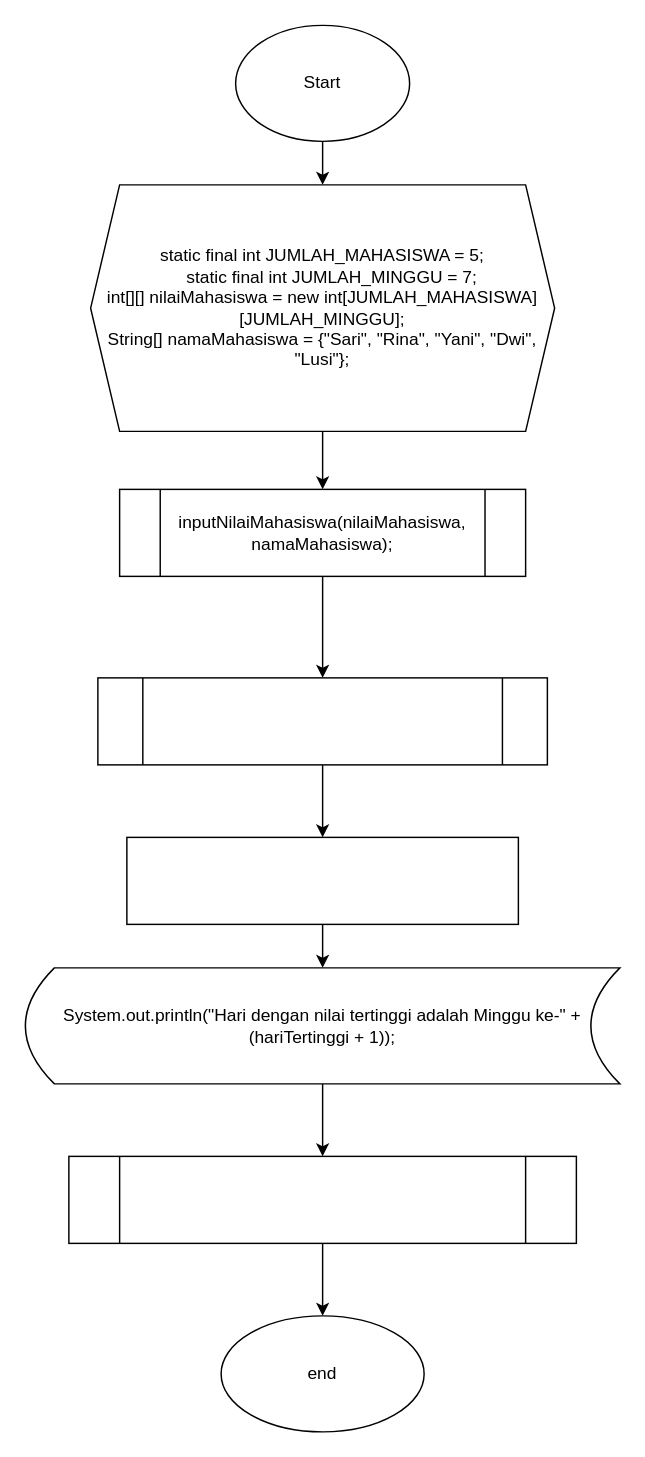
Some shapes in this 645 by 1457 pixel diagram are drawn without their labels. The centre of each missing label's shape, as x and y in pixels:
int hariTertinggi = cariHariTertinggi(nilaiMahasiswa);: (x=321, y=880)
tampilkanMahasiswaNilaiTertinggi(nilaiMahasiswa, namaMahasiswa, hariTertinggi);: (x=321, y=1199)
tampilkanNilaiMahasiswa(nilaiMahasiswa, namaMahasiswa);: (x=321, y=720)
